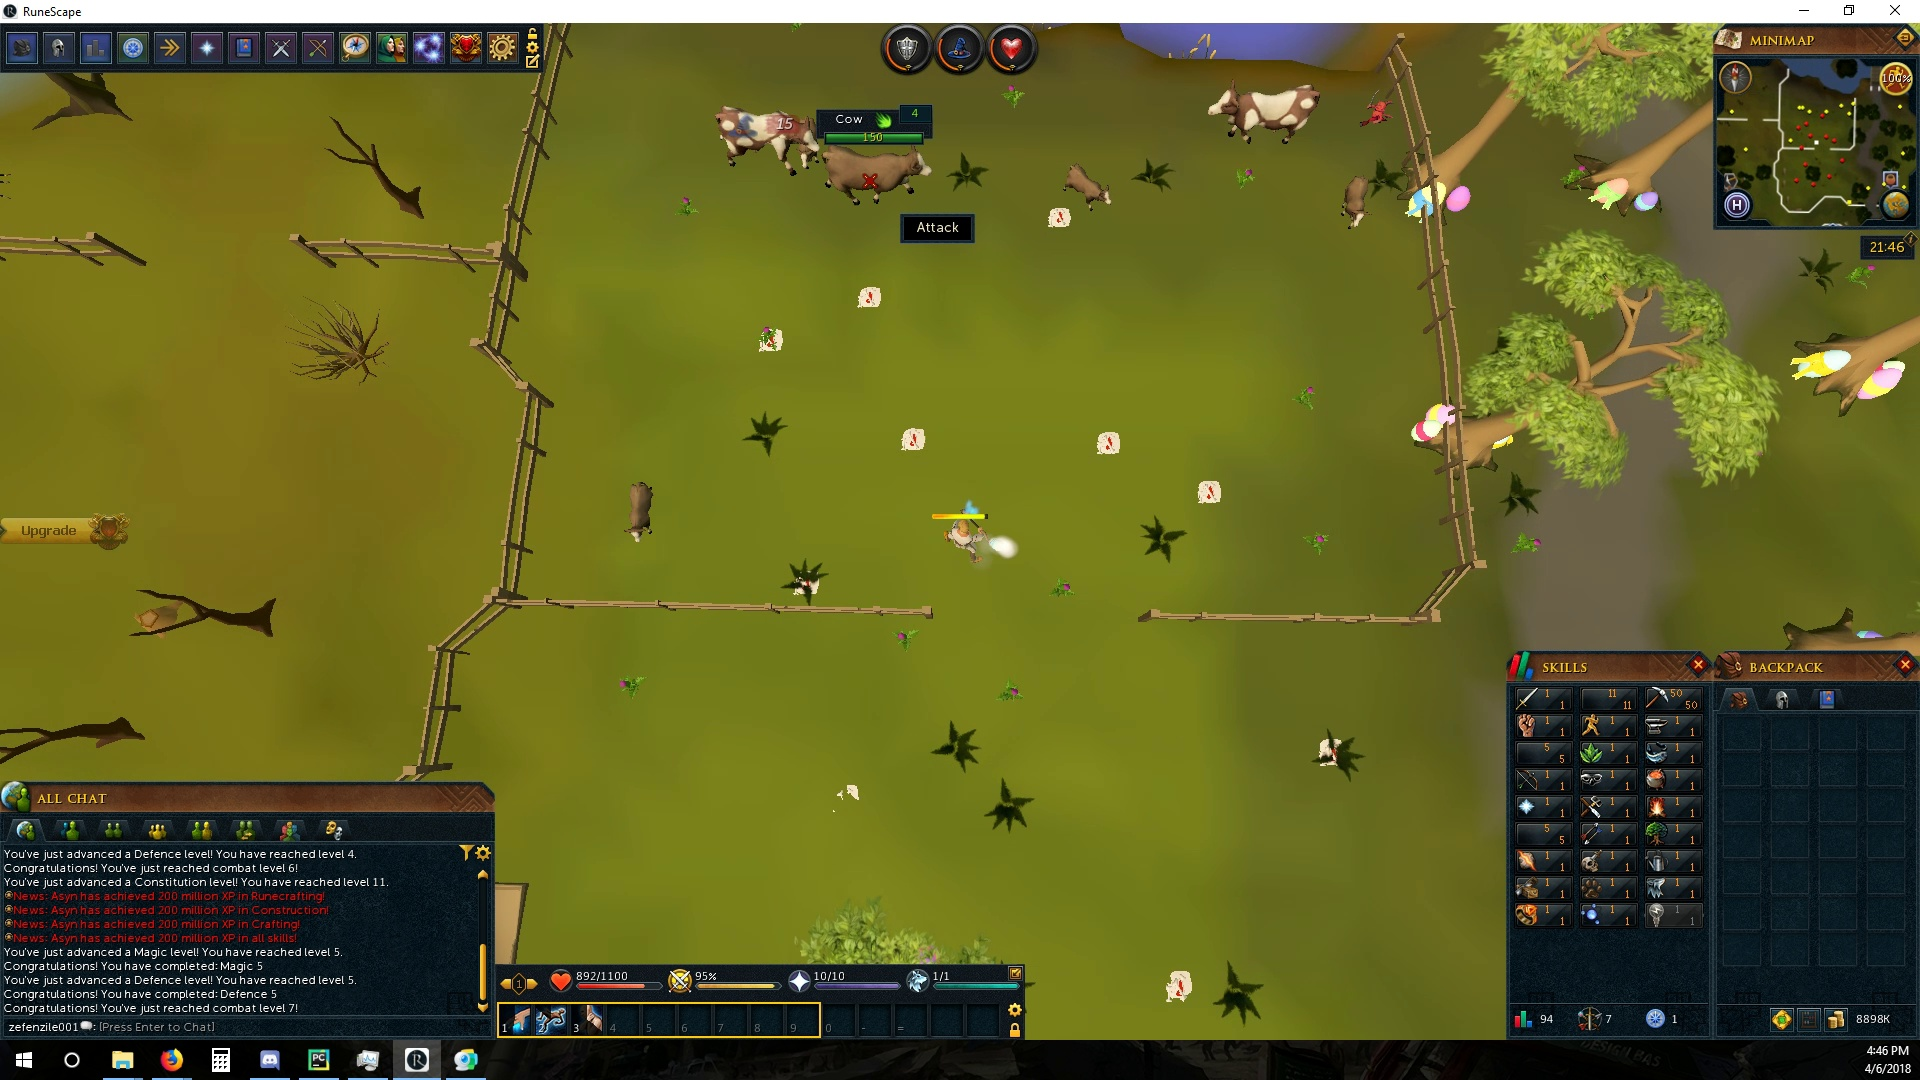calf: (1060, 161, 1117, 218), (624, 481, 655, 549), (1337, 170, 1370, 233)
cow: (1203, 80, 1324, 145), (822, 145, 940, 211), (709, 105, 816, 178)
cow_drop: (1308, 737, 1348, 770), (1164, 967, 1196, 1006), (749, 323, 787, 353), (1195, 476, 1226, 508), (1092, 429, 1124, 458), (855, 284, 885, 311), (898, 426, 928, 454), (1044, 203, 1069, 232)
